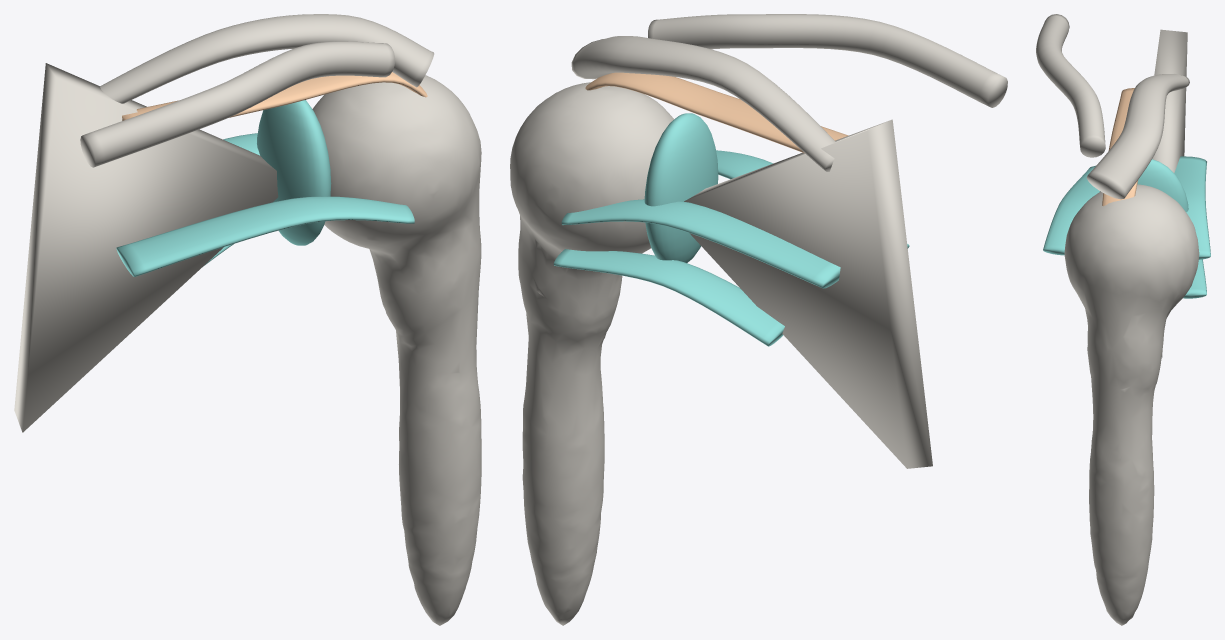
File: shoulder-cuff.glb
The picture shows the model from 3 angles, left to right: view 1: azimuth 30°, elevation 25°; view 2: azimuth 150°, elevation 25°; view 3: azimuth 270°, elevation 25°; orthographic projection. The views are drawn at different scales.
Parts seen in each view (by area): view 1: static #eee5d3, static #49bdb4, static #f2a066; view 2: static #eee5d3, static #49bdb4, static #f2a066; view 3: static #eee5d3, static #49bdb4, static #f2a066.
Part boxes in pixels (x1,y1,x2,y2): static #eee5d3: (14,14,481,625); static #49bdb4: (116,100,414,276); static #f2a066: (122,72,427,120); static #eee5d3: (510,14,1007,625); static #49bdb4: (553,113,909,346); static #f2a066: (585,72,848,153); static #eee5d3: (1036,14,1199,625); static #49bdb4: (1043,156,1210,298); static #f2a066: (1102,88,1137,206).
Size of the model in its own units: 0.2914 by 0.4095 by 0.1348.
